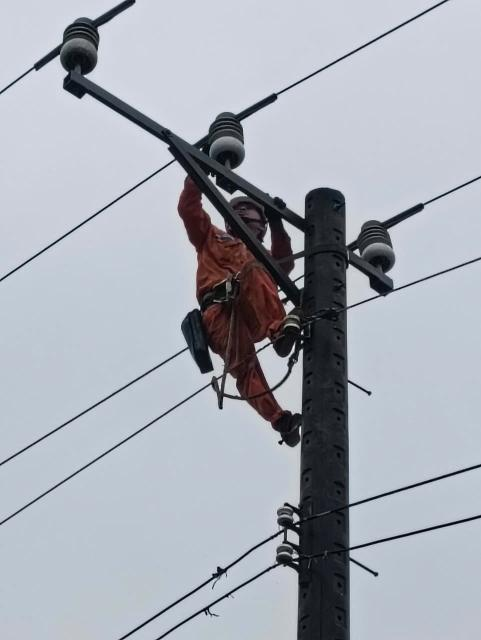harness: (173, 267, 272, 315)
helmet: (219, 183, 276, 237)
